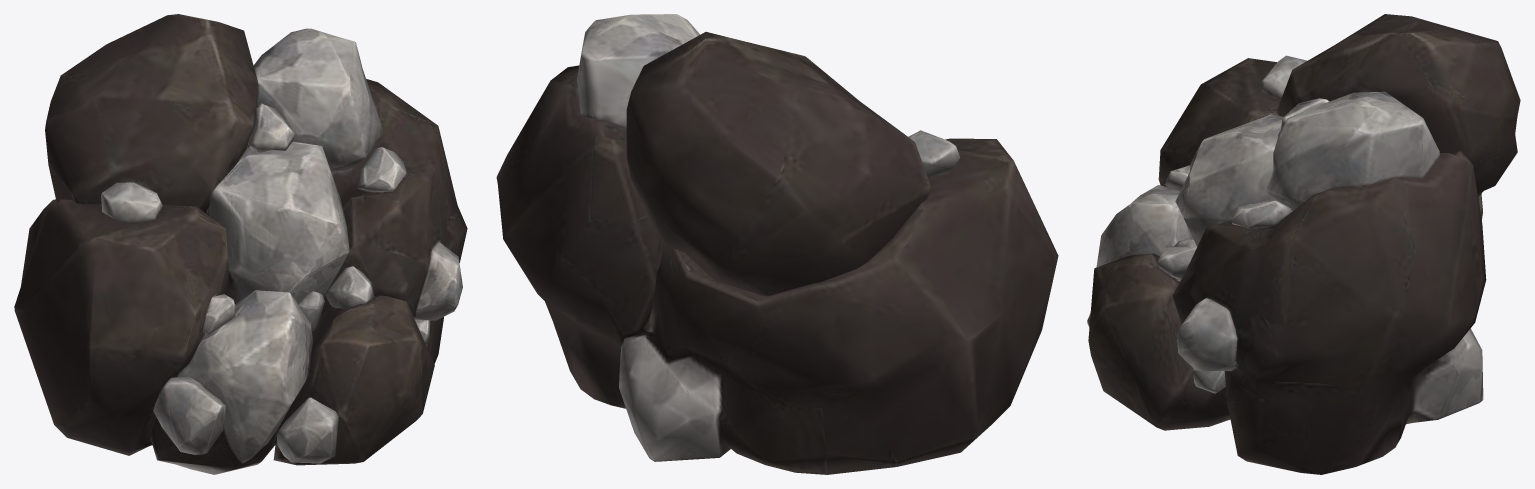
Rendered from filon_pierre.glb.
3 views of the same model, side by side, from view 1: azimuth 30°, elevation 25°; view 2: azimuth 150°, elevation 25°; view 3: azimuth 270°, elevation 25° (orthographic). The views are drawn at different scales.
Bounding box in the file's own units: 0.9648 × 0.7627 × 0.8247.
1 material, 1 textured.
